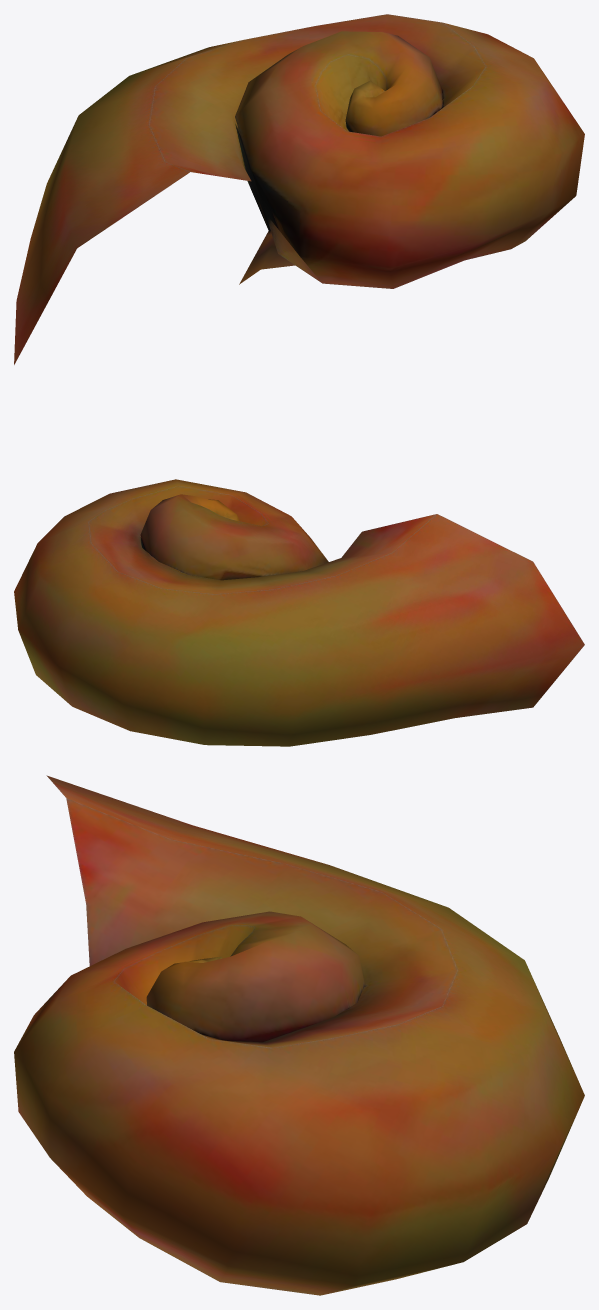
Rendered from seashell.glb.
The picture shows the model from 3 angles, top to bottom: view 1: azimuth 30°, elevation 25°; view 2: azimuth 150°, elevation 25°; view 3: azimuth 270°, elevation 25°; orthographic projection. The views are drawn at different scales.
Parts seen in each view (by area): view 1: BezierCurve_CUBezierCurve; view 2: BezierCurve_CUBezierCurve; view 3: BezierCurve_CUBezierCurve.
Boxes of the visible parts, box(x1,y1,x2,y2) form: BezierCurve_CUBezierCurve: box(14, 14, 584, 364); BezierCurve_CUBezierCurve: box(14, 479, 584, 746); BezierCurve_CUBezierCurve: box(14, 775, 584, 1295).
Bounding box in the file's own units: 5.09 × 2.23 × 3.2.
1 material, 1 textured.
